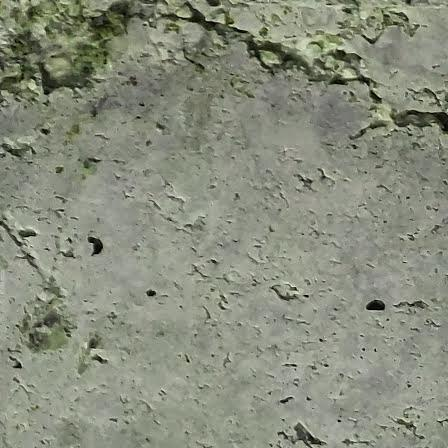crack: (126, 0, 397, 107), (387, 105, 448, 135)
spalling: (1, 1, 130, 107), (0, 266, 95, 367), (320, 1, 424, 46)
